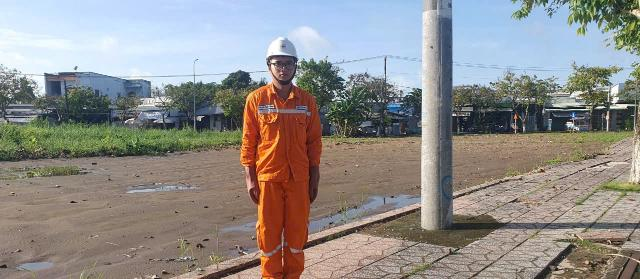gloves: (245, 152, 267, 204), (302, 154, 322, 208)
helmet: (266, 34, 301, 65)
